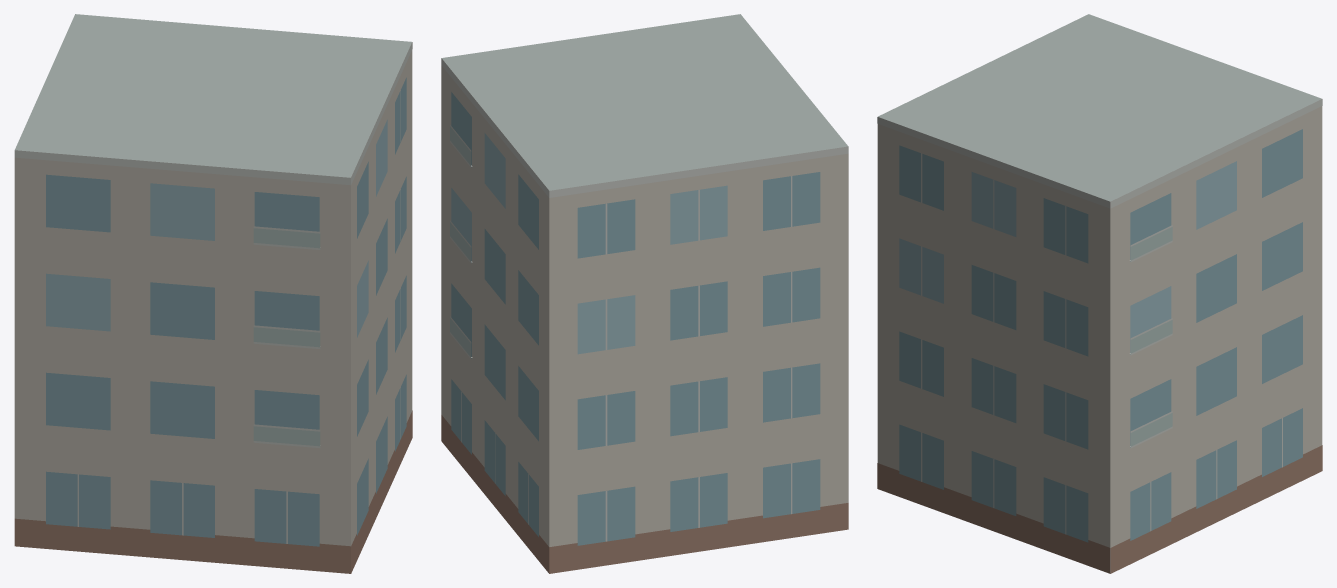
Rendered from survey-upis-32620084.glb.
3 views of the same model, side by side, from view 1: azimuth 30°, elevation 25°; view 2: azimuth 150°, elevation 25°; view 3: azimuth 270°, elevation 25° (orthographic). The views are drawn at different scales.
Visible parts, largest first — view 1: survey-upis-32620084.tmp; view 2: survey-upis-32620084.tmp; view 3: survey-upis-32620084.tmp.
Part boxes in pixels (x1,y1,x2,y2): survey-upis-32620084.tmp: (14, 14, 412, 573); survey-upis-32620084.tmp: (441, 14, 848, 573); survey-upis-32620084.tmp: (877, 14, 1322, 573).
Size of the model in its own units: 14.06 by 12.99 by 14.08.
